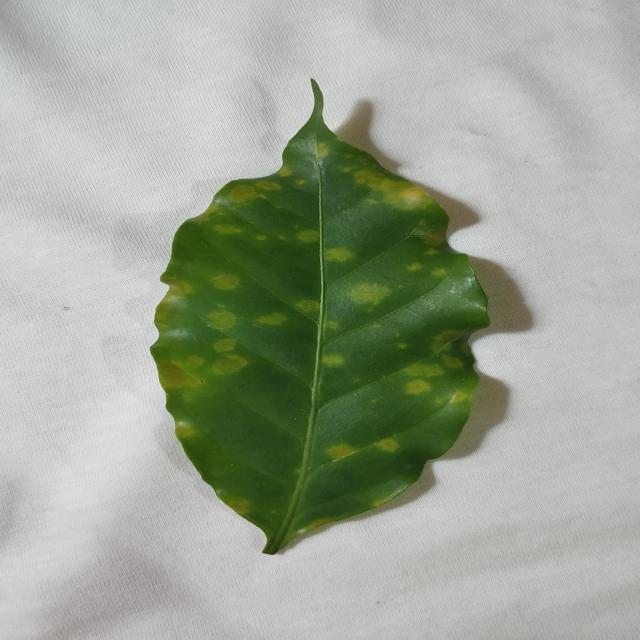Enfermedad-Roya: (149, 80, 492, 558)
